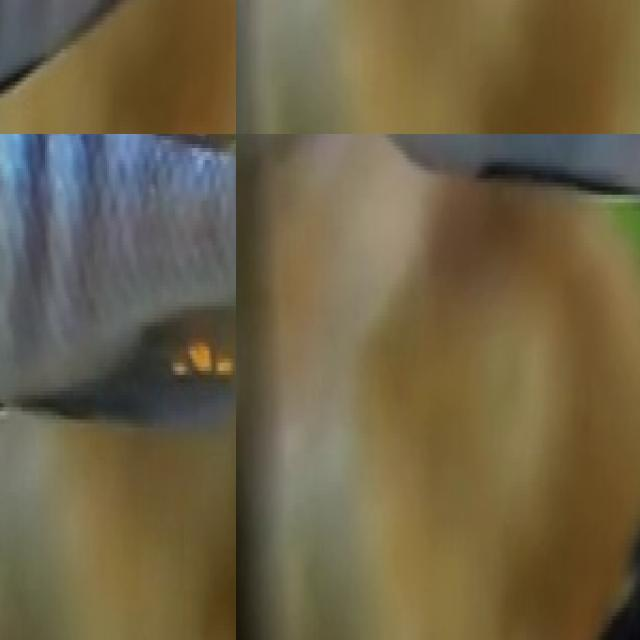fish: (447, 219, 640, 640), (0, 0, 236, 134)
